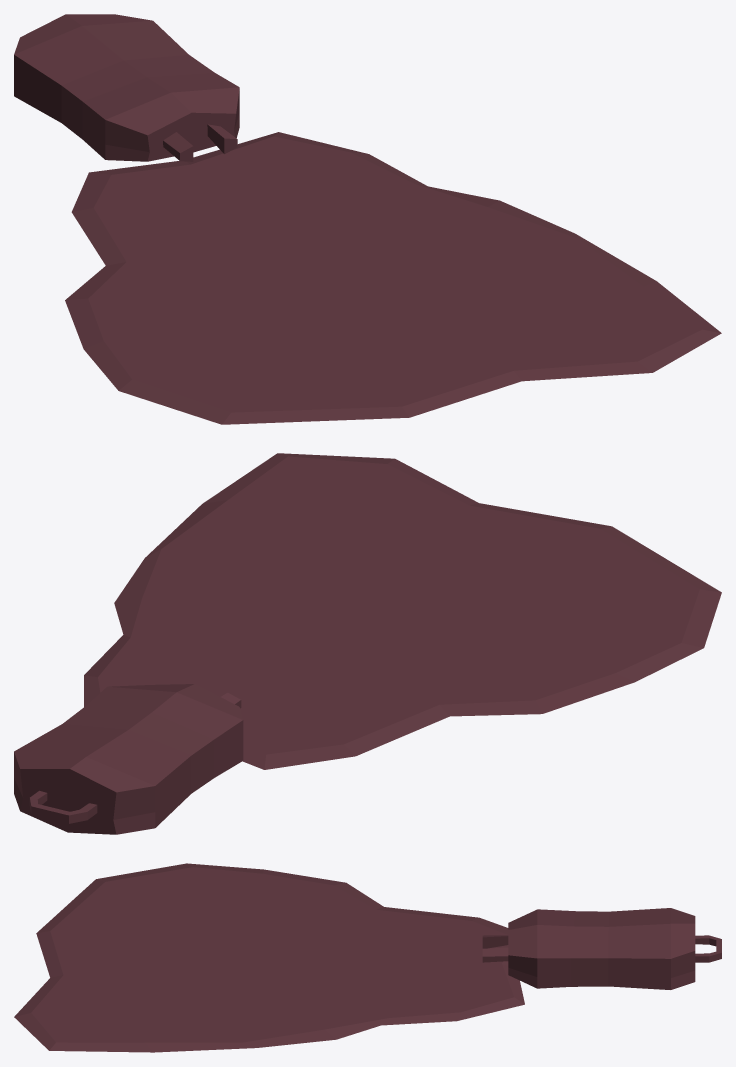
Rendered from water-bag-spilled.fbx.
3 views of the same model, one above another, from view 1: azimuth 30°, elevation 25°; view 2: azimuth 150°, elevation 25°; view 3: azimuth 270°, elevation 25° (orthographic). The views are drawn at different scales.
Parts seen in each view (by area): view 1: water-bag-spilled; view 2: water-bag-spilled; view 3: water-bag-spilled.
Part boxes in pixels (left/top/right/bottom): water-bag-spilled: left=14, top=14, right=721, bottom=424; water-bag-spilled: left=14, top=453, right=721, bottom=834; water-bag-spilled: left=14, top=863, right=721, bottom=1052.
Bounding box in the file's own units: 0.4834 × 0.0566 × 0.7649.
